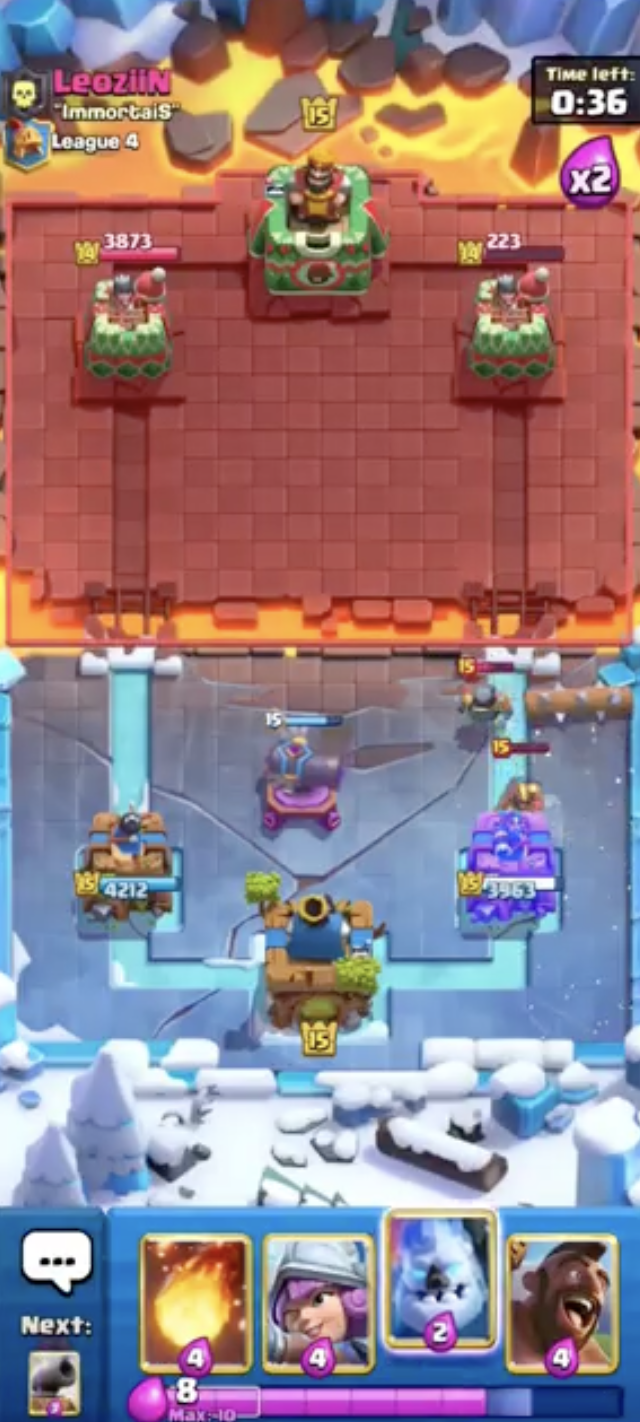hog-rider: (486, 739, 553, 826)
mini-pekka: (450, 646, 513, 725)
